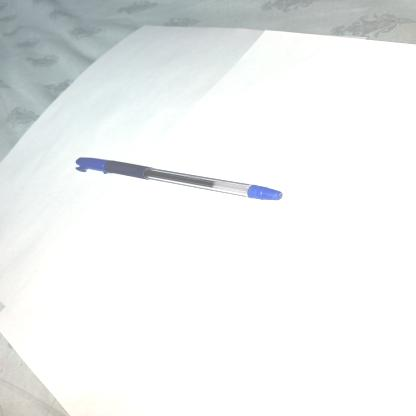pen: (66, 143, 296, 221)
